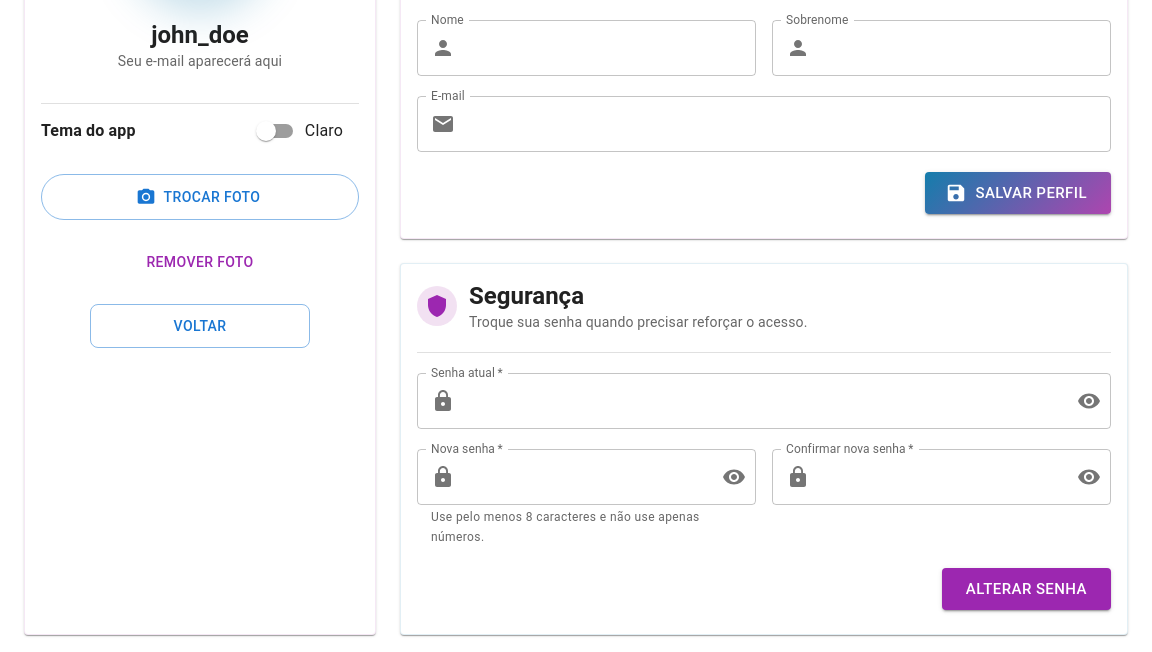
Test case: Settings Page › should validate and change password successfully
(page scrolled)
In the password field labelled "Senha atual *": (762, 401) [463,373,1061,429], type "oldpass123"
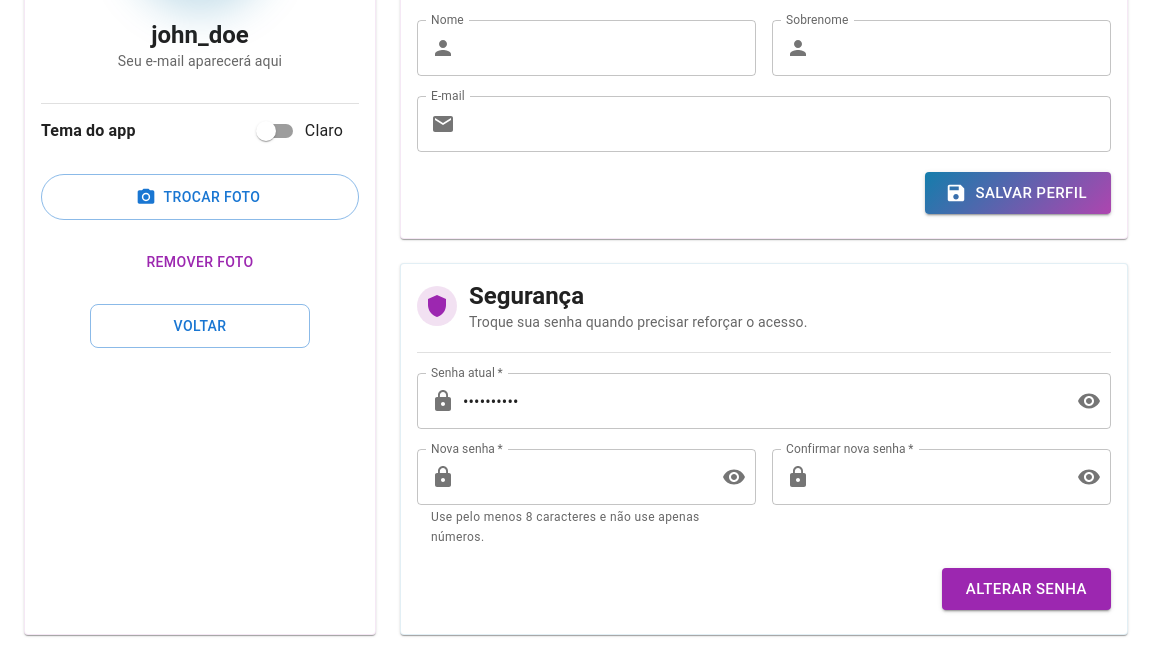
In the password field labelled "Nova senha *": (584, 477) [463,449,706,505], type "newpassword123"
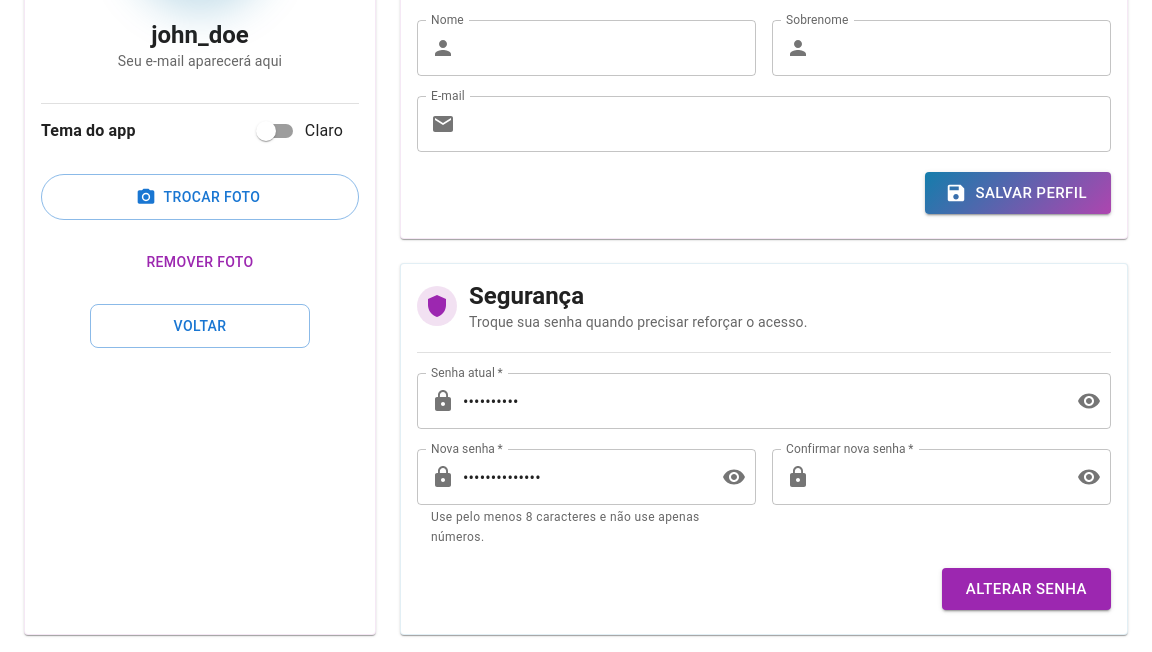
In the password field labelled "Confirmar nova senha *": (940, 477) [818,449,1061,505], type "newpassword123"
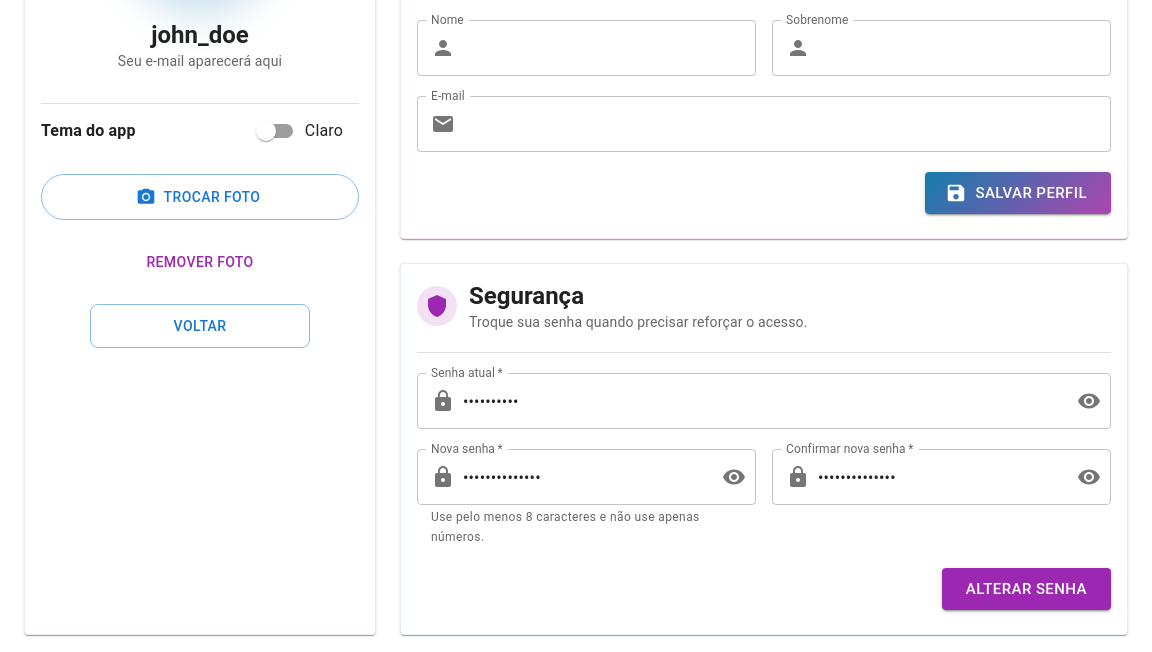
Click the button "Alterar senha": (1026, 589) [942,568,1111,610]
(page scrolled)
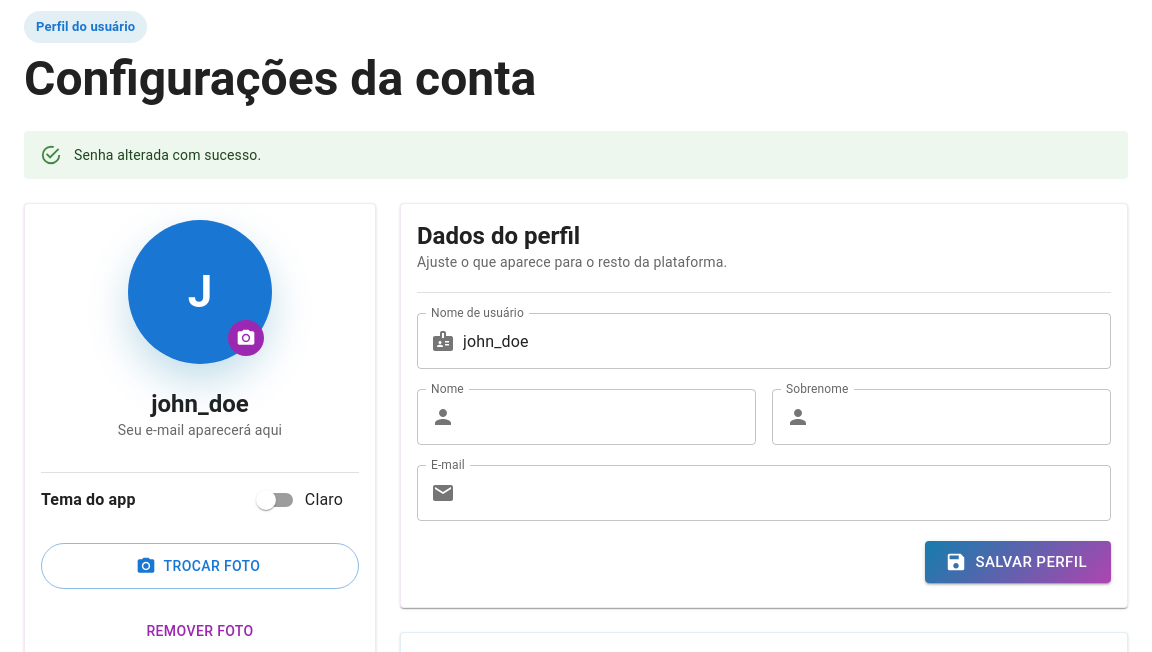
Check: the text "Senha alterada com sucesso." is shown, box [74,147,261,163]
